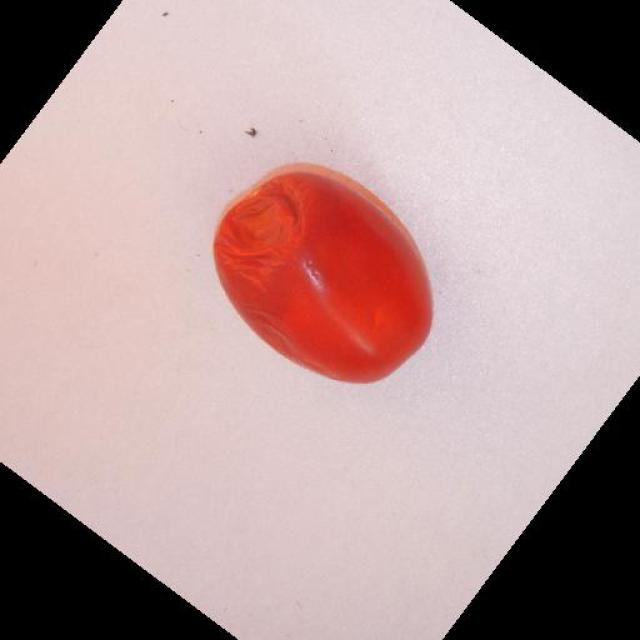Stale_tomato: (212, 140, 452, 374)
